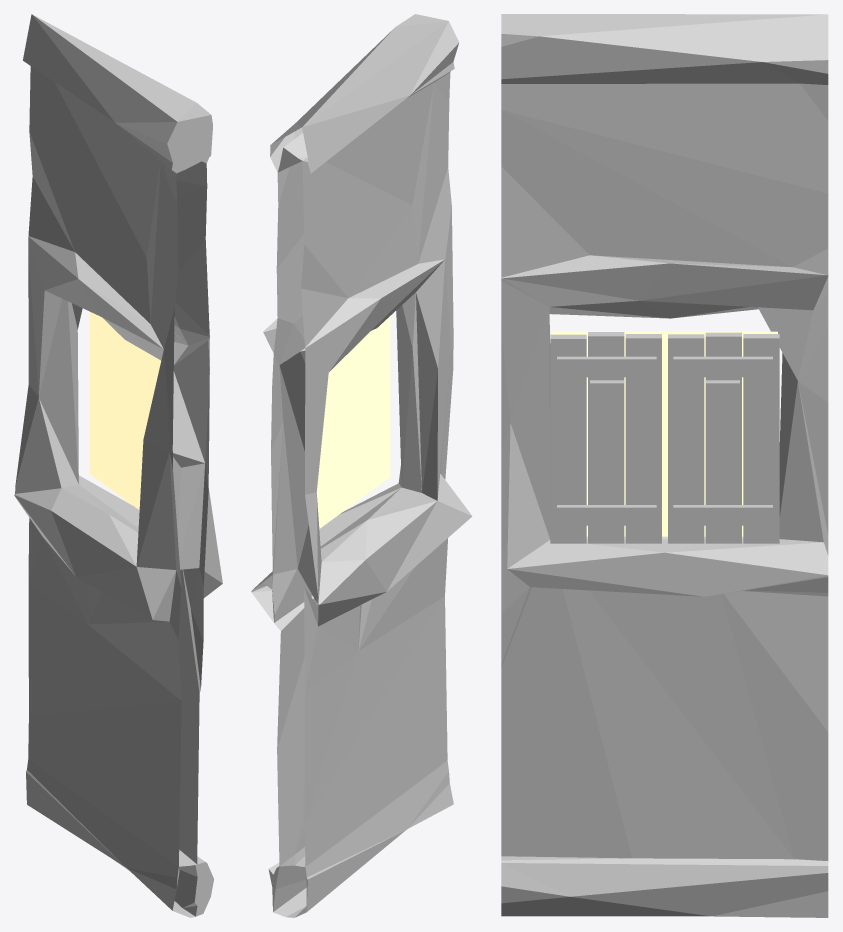
Rendered from wall.wood.window.glb.
3 renders of one model, left to right at view 1: azimuth 30°, elevation 25°; view 2: azimuth 150°, elevation 25°; view 3: azimuth 270°, elevation 25°, orthographic. The views are drawn at different scales.
Parts seen in each view (by area): view 1: window, glow; view 2: window, glow; view 3: window, shutter_b, shutter_a, glow.
Boxes of the visible parts, x1,y1,x2,y2 form: window: (14, 14, 222, 917); glow: (89, 312, 160, 509); window: (251, 14, 472, 917); glow: (316, 316, 390, 528); window: (501, 14, 828, 917); shutter_b: (550, 332, 661, 543); shutter_a: (668, 332, 779, 543); glow: (552, 331, 777, 536).
Bounding box in the file's own units: 0.3 × 3 × 1.
